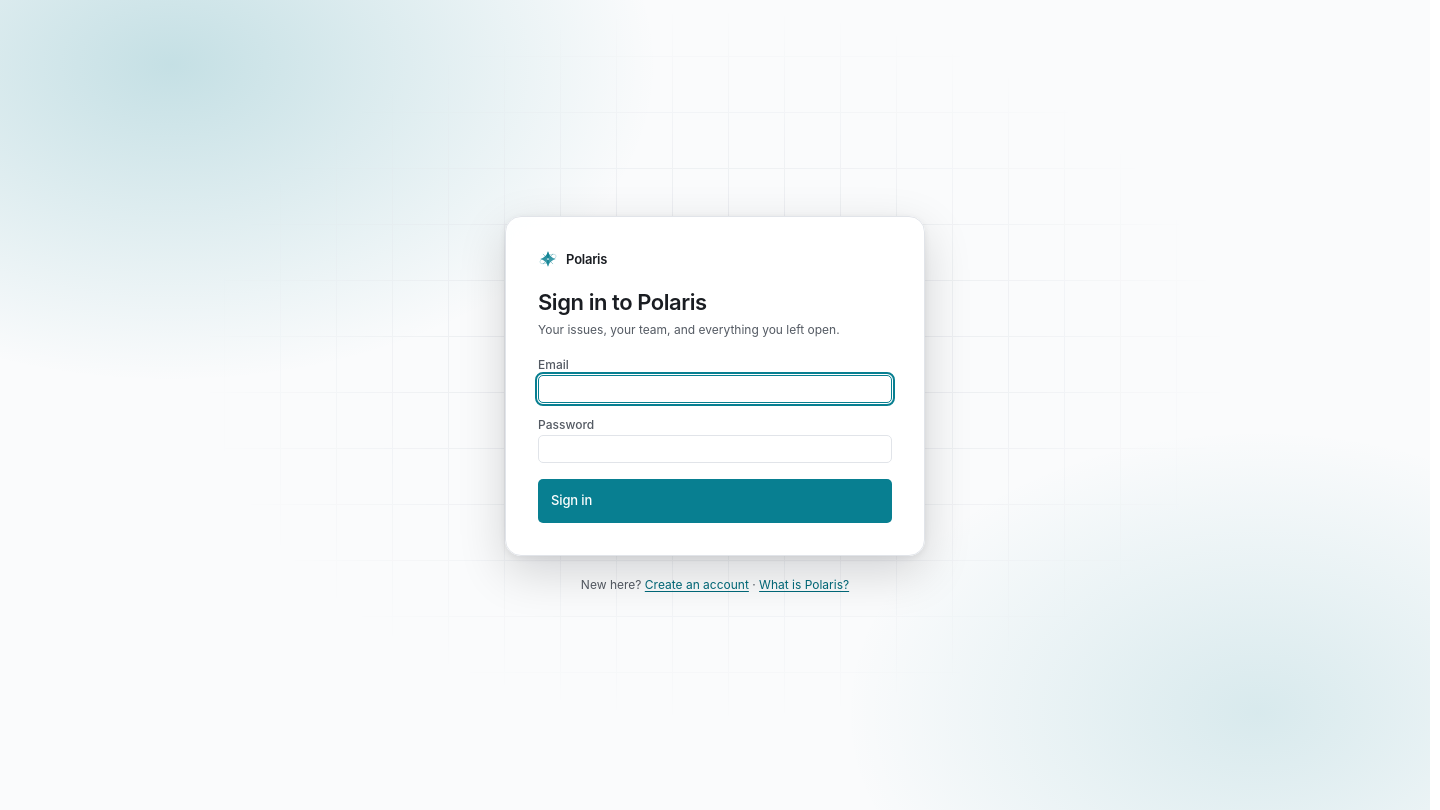
Scenario: SignIn › focuses and selects the password when the credentials were simply wrong
Type "ada@example.com" into the field labelled "Email" at (715, 389), box [547,376,883,402]
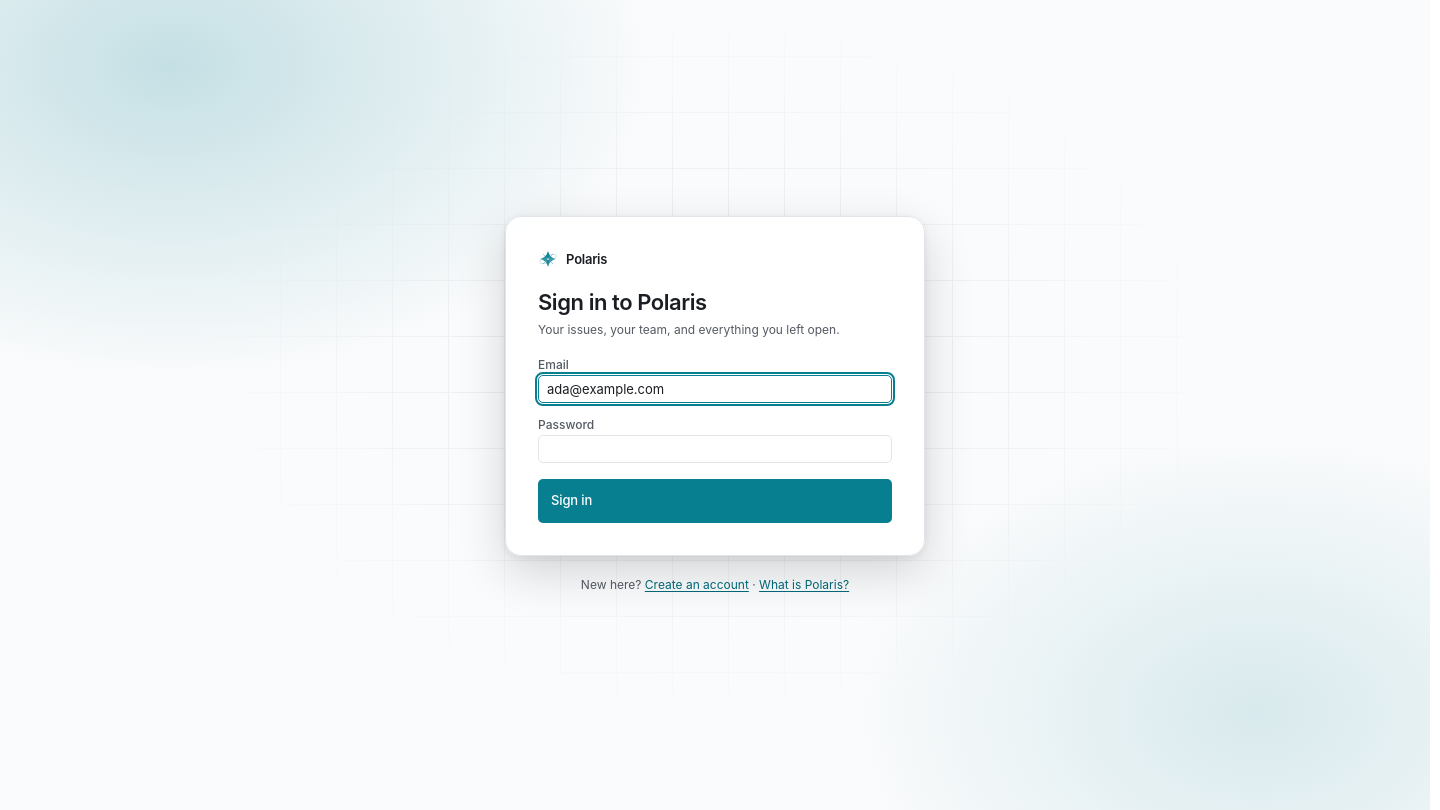
Type "notmypasswd" into the password field labelled "Password" at (715, 449), box [547,436,883,462]
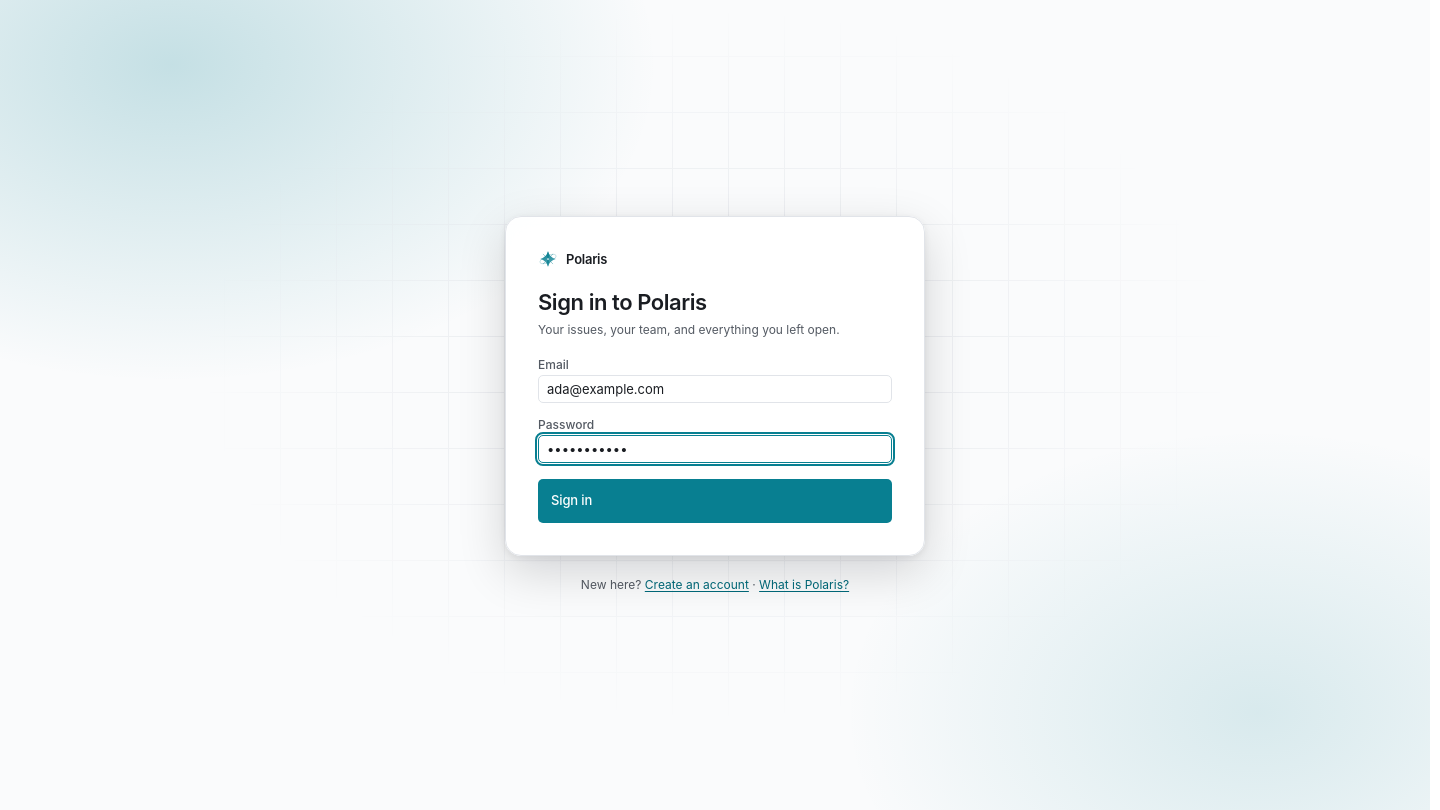
Click the button "Sign in" at (572, 500), box [538,479,892,523]
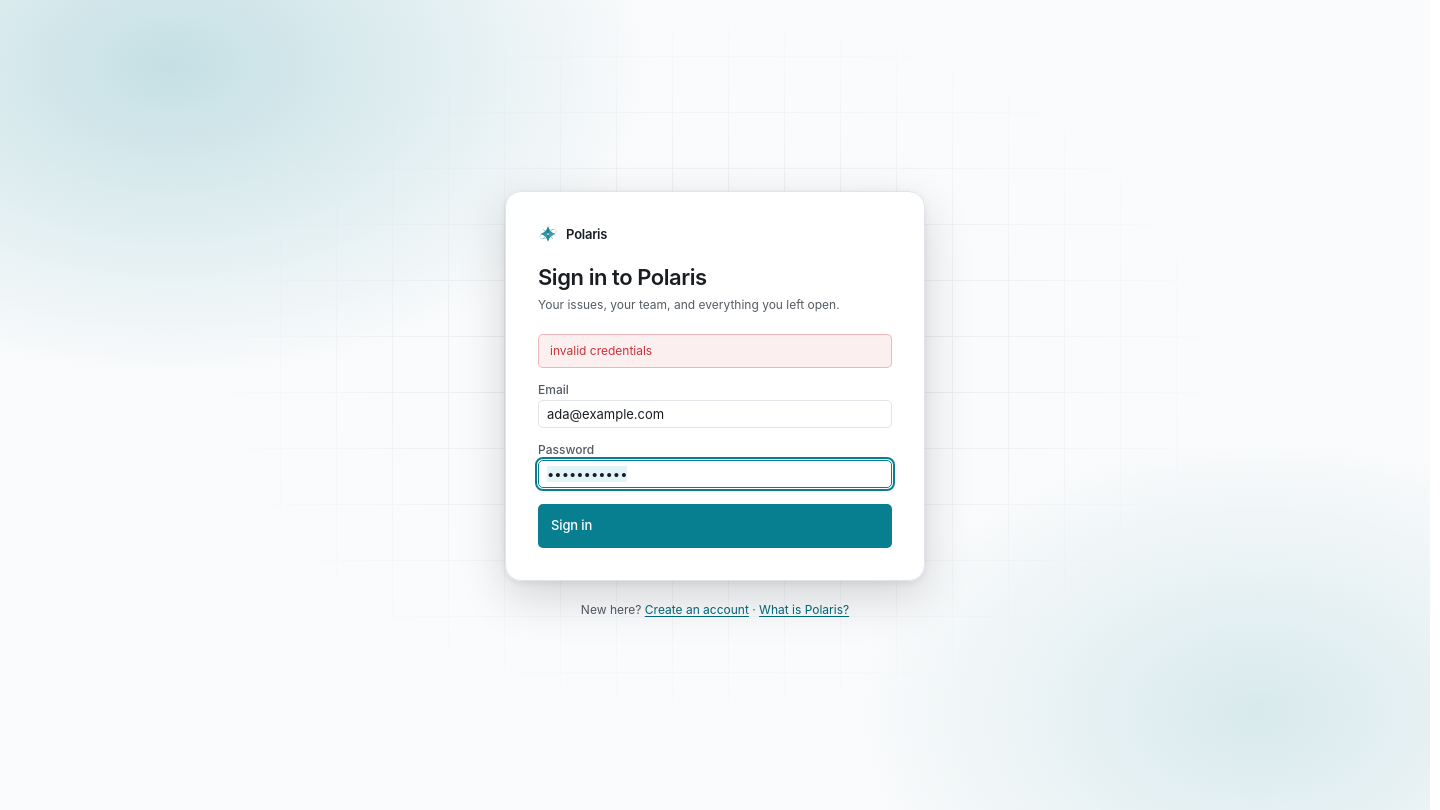
expect the message reads "invalid credentials": met, box [550,343,652,358]
